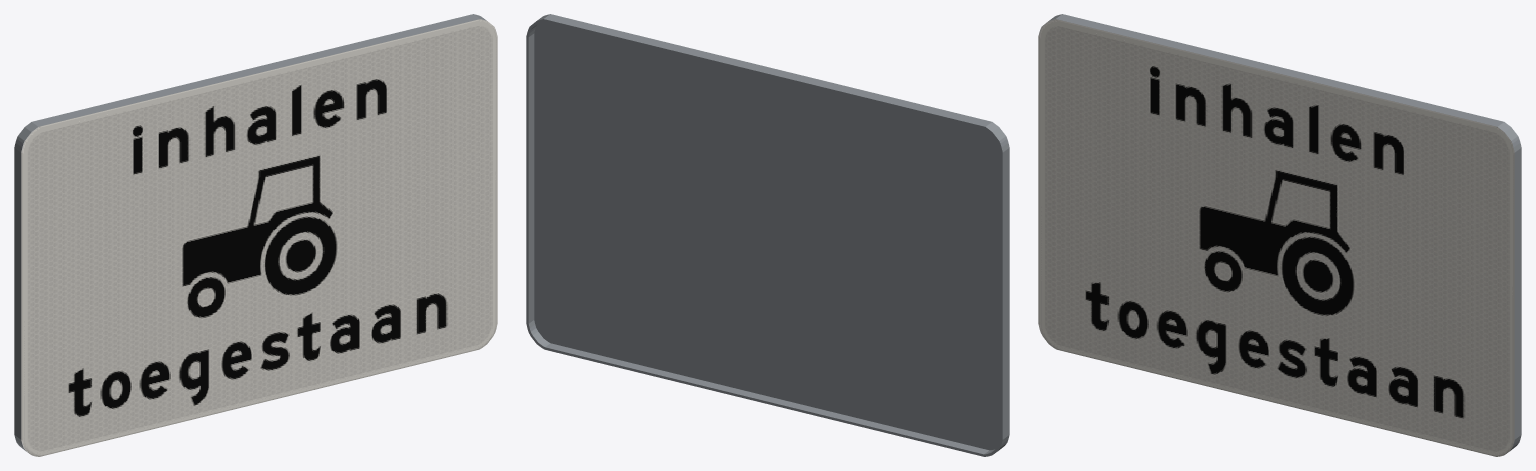
3 views of the same model, side by side, from view 1: azimuth 30°, elevation 25°; view 2: azimuth 150°, elevation 25°; view 3: azimuth 330°, elevation 25° (orthographic).
Visible parts, largest first — view 1: cat_26b6a531608729ff; view 2: cat_26b6a531608729ff; view 3: cat_26b6a531608729ff.
Boxes of the visible parts, box(x1,y1,x2,y2) form: cat_26b6a531608729ff: box(14, 14, 497, 456); cat_26b6a531608729ff: box(526, 14, 1009, 456); cat_26b6a531608729ff: box(1038, 14, 1521, 456).
Size of the model in its own units: 0.6 by 0.015 by 0.3976.
Materials: 2 (1 with a texture image).
